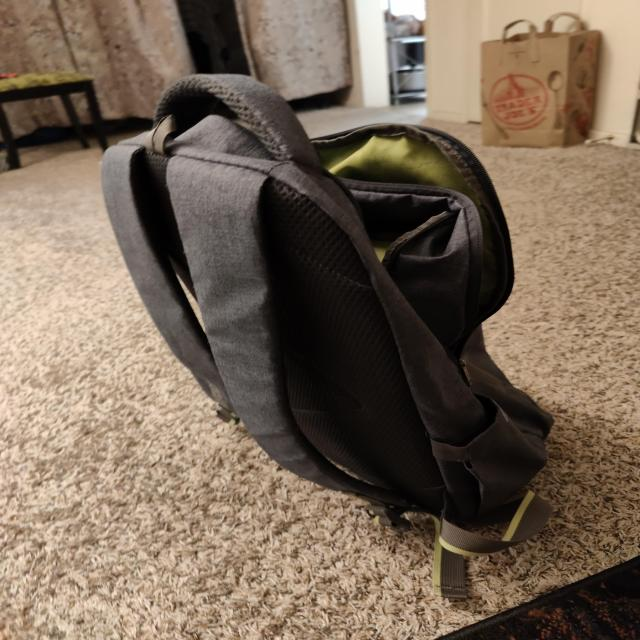bag: (98, 70, 558, 516)
